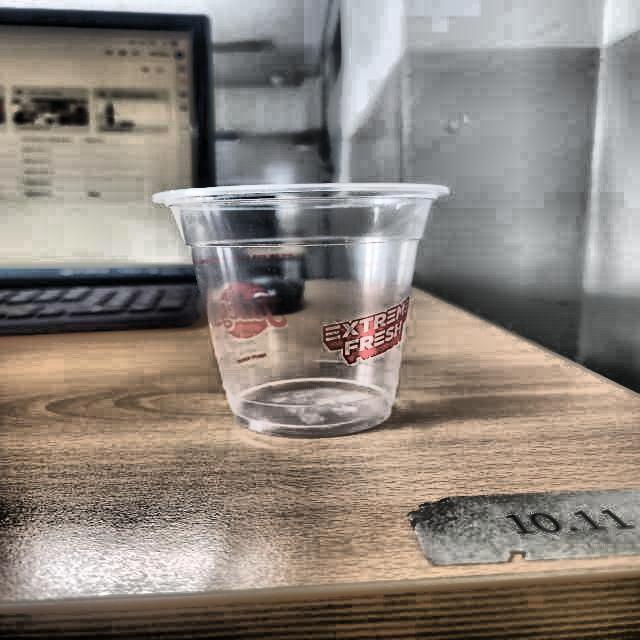plastic cup: (148, 180, 451, 434)
